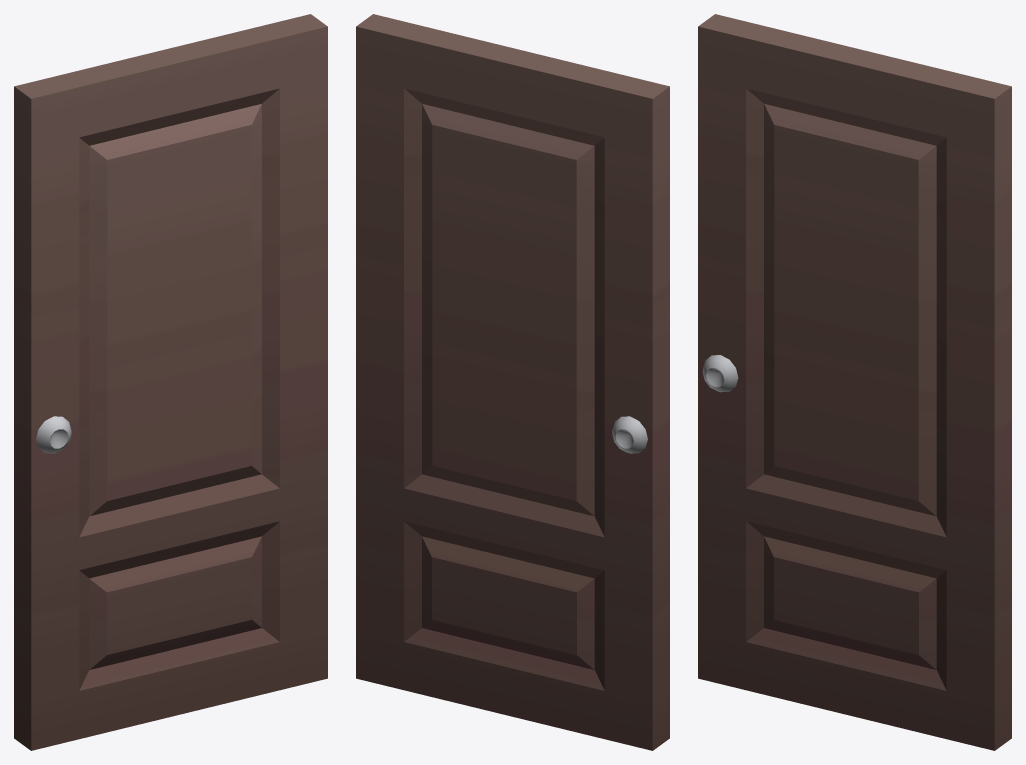
The model's file is Door_Brown_02.glb.
3 views of the same model, side by side, from view 1: azimuth 30°, elevation 25°; view 2: azimuth 150°, elevation 25°; view 3: azimuth 330°, elevation 25° (orthographic).
Visible parts, largest first — view 1: Door_Brown_02; view 2: Door_Brown_02; view 3: Door_Brown_02.
Part boxes in pixels (x1,y1,x2,y2): Door_Brown_02: [14, 14, 327, 750]; Door_Brown_02: [356, 14, 669, 750]; Door_Brown_02: [698, 14, 1011, 750].
Bounding box in the file's own units: 1 × 2.1 × 0.1634.
1 material, 1 textured.
